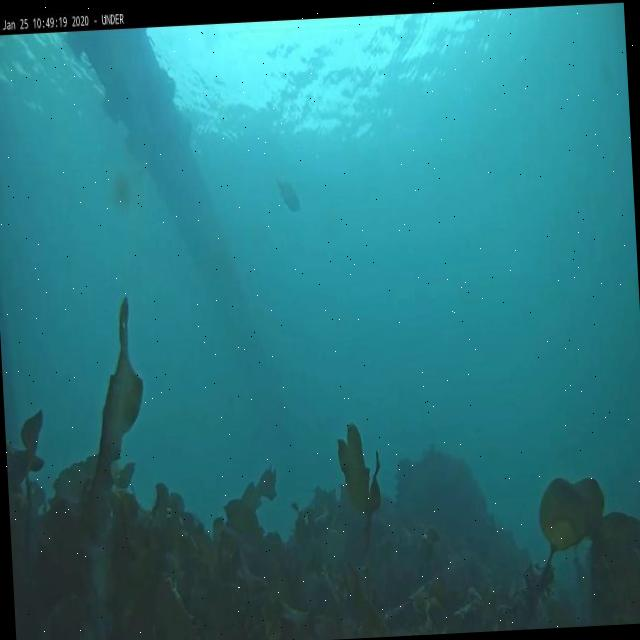fish: (276, 178, 300, 216)
